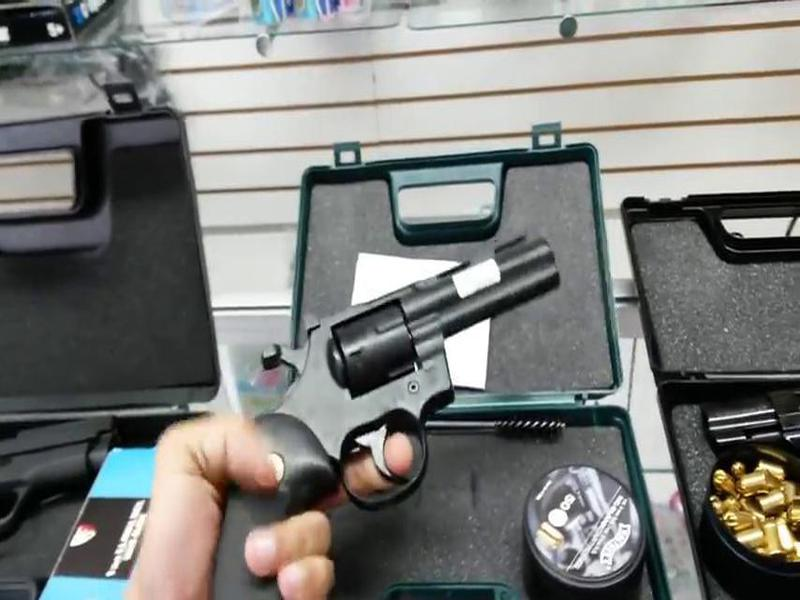Revolver: (210, 230, 613, 594)
